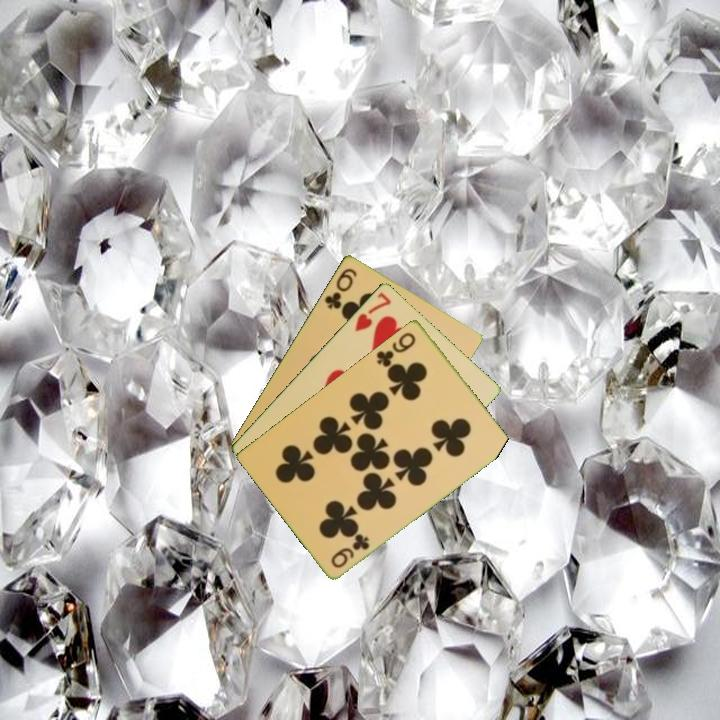6c: (321, 264, 360, 312)
7h: (351, 288, 394, 334)
9c: (373, 328, 419, 370), (327, 529, 373, 571)
